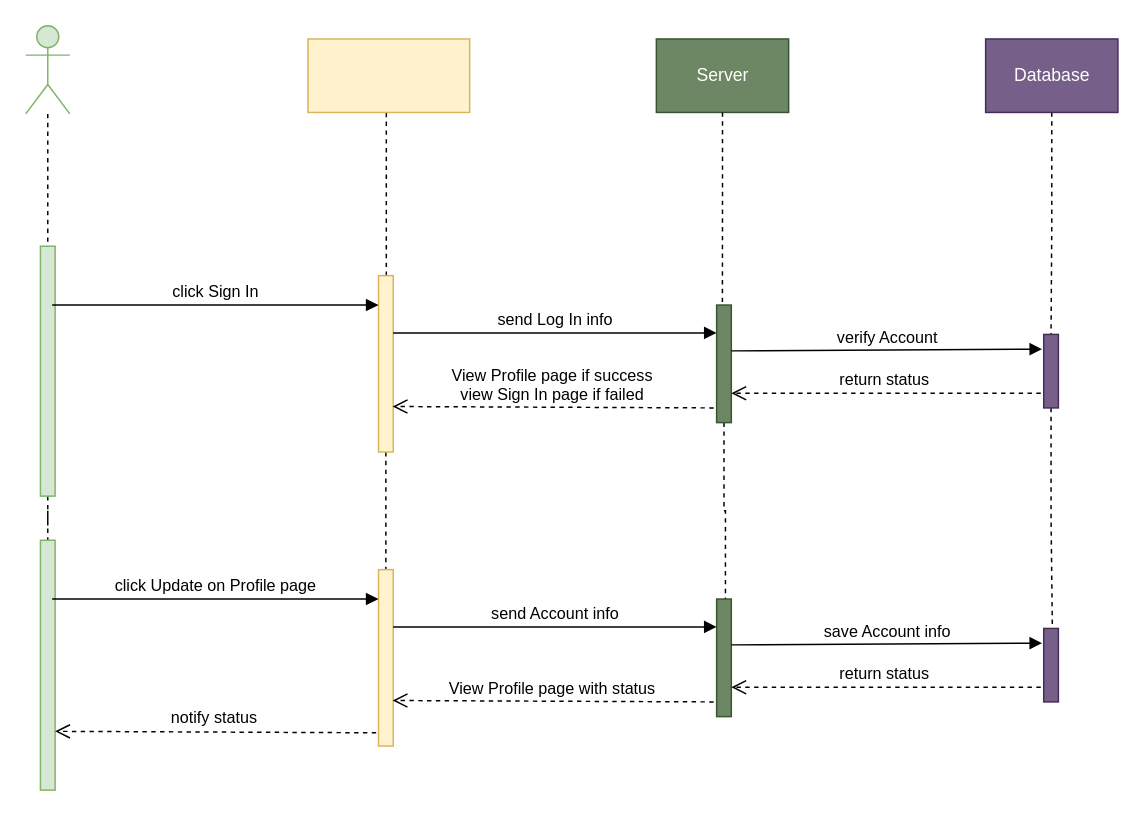
The diagram is 1144 pixels wide and 816 high, and some of its shapes have lost their labels. The centre of each missing label's shape, as x and y in pixels:
Interface - UI: (388,74)
User: (47,69)
